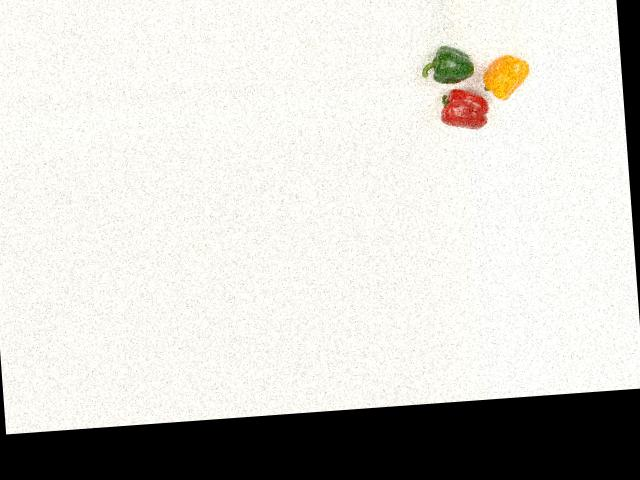bell_pepper: (418, 43, 475, 88)
